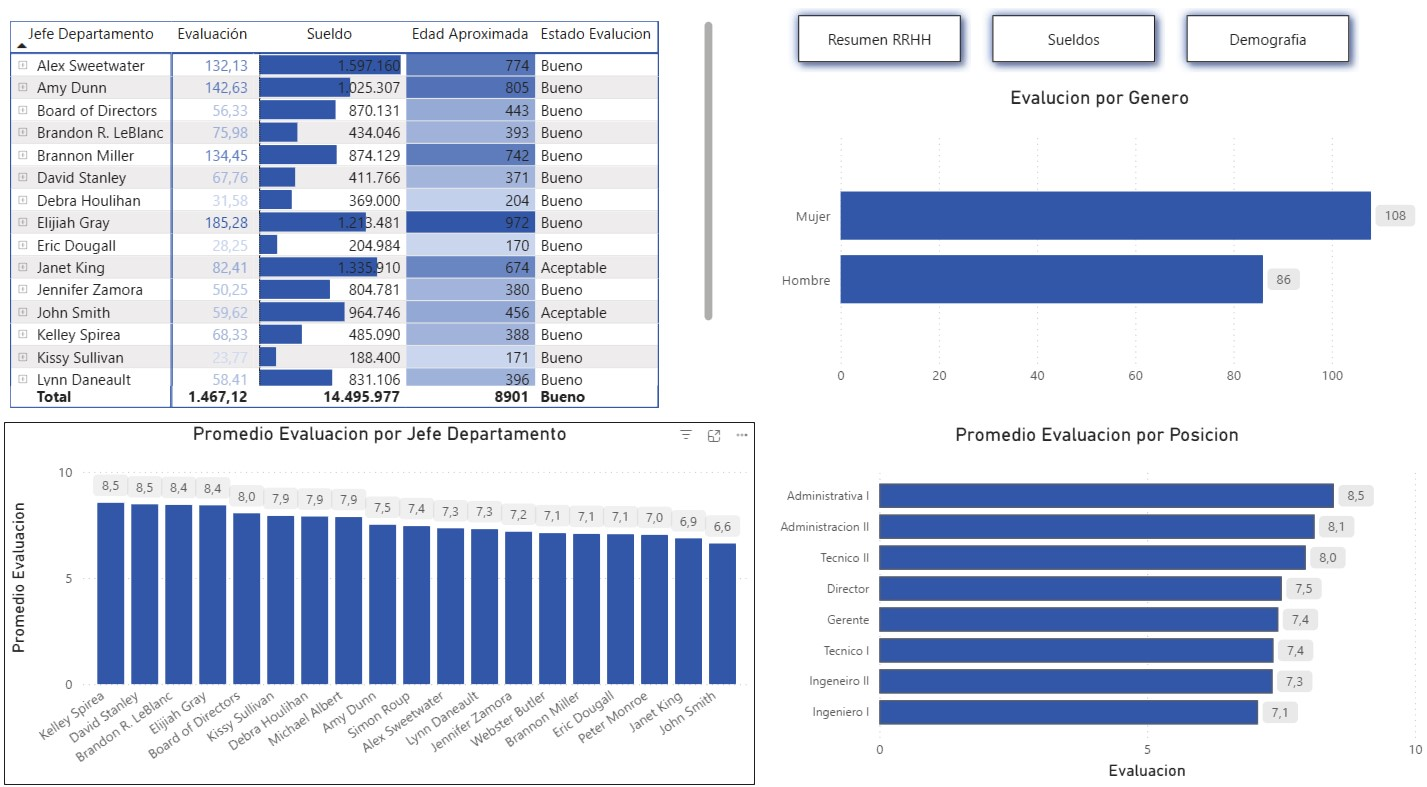

Layout of this report page (visuals, bound fields, positions):
{"tool":"powerbi","page":{"name":"Evaluacion","canvas":[1280,720],"ordinal":1},"visuals":[{"type":"pivotTable","title":"df","fields":{"Rows":["Tabla1_2.Nombre_Jefe","Tabla1_2.Departamento","Tabla1_2.Nombre","Tabla1_2.Posicion"],"Values":["Sum(Tabla1_2.Evaluación)","Sum(Tabla1_2.Sueldo)","Sum(Tabla1_2.Edad_Aprox)","MEDIDAS.Estado Evalucion"]},"box":[11.2,20.7,637.4,355.4],"z":0},{"type":"columnChart","fields":{"Y":["MEDIDAS.Promedio_Evaluacion_por_Jefe"],"Category":["Tabla1_2.Nombre_Jefe"]},"box":[11.2,383.2,669.4,323.5],"z":1000},{"type":"clusteredBarChart","fields":{"Category":["Tabla1_2.Posicion"],"Y":["MEDIDAS.Promedio_Evalucion_por_Posicion"]},"box":[690,384,590,322],"z":2000},{"type":"clusteredBarChart","title":"Evalucion por Genero","fields":{"Y":["Tabla1_2.Empleados"],"Category":["Tabla1_2.Genero"]},"box":[694.3,83.7,585.5,276],"z":3000},{"type":"pageNavigator","box":[709.7,11.2,509,60.6],"z":4000}]}

Visuals, with their boxes in screenshot pixels (x1, y1, x2, y2), scaled from the page's 1280x720 canvas onto the 1427x787 screenshot:
"df" pivotTable: bbox=[12, 23, 723, 411]
columnChart - MEDIDAS.Promedio_Evaluacion_por_Jefe x Tabla1_2.Nombre_Jefe: bbox=[12, 419, 759, 772]
clusteredBarChart - Tabla1_2.Posicion x MEDIDAS.Promedio_Evalucion_por_Posicion: bbox=[769, 420, 1426, 772]
"Evalucion por Genero" clusteredBarChart: bbox=[774, 91, 1426, 393]
pageNavigator: bbox=[791, 12, 1359, 78]
